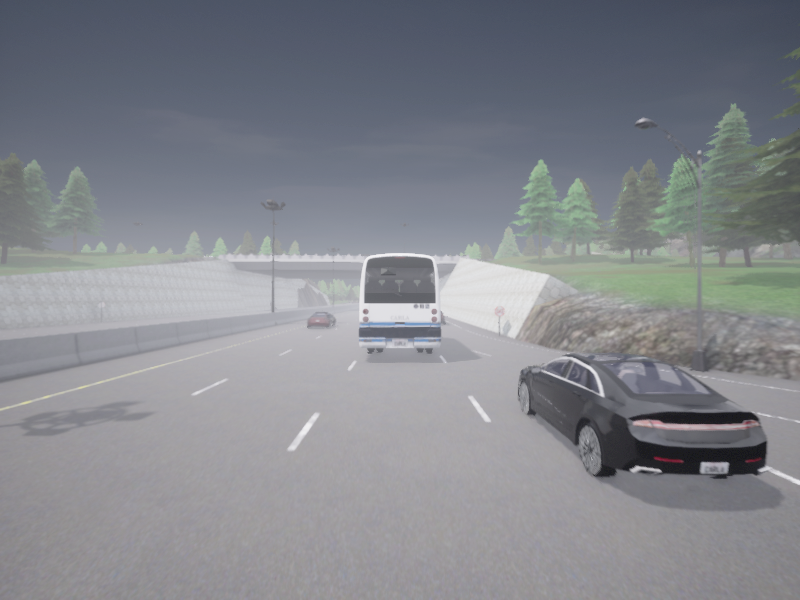vehicle: (518, 352, 769, 477), (359, 253, 440, 352), (307, 312, 335, 327), (440, 311, 445, 323)
